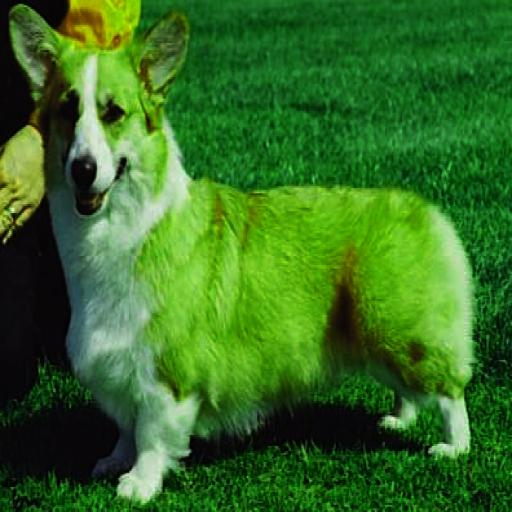dog_face: (4, 2, 191, 209)
